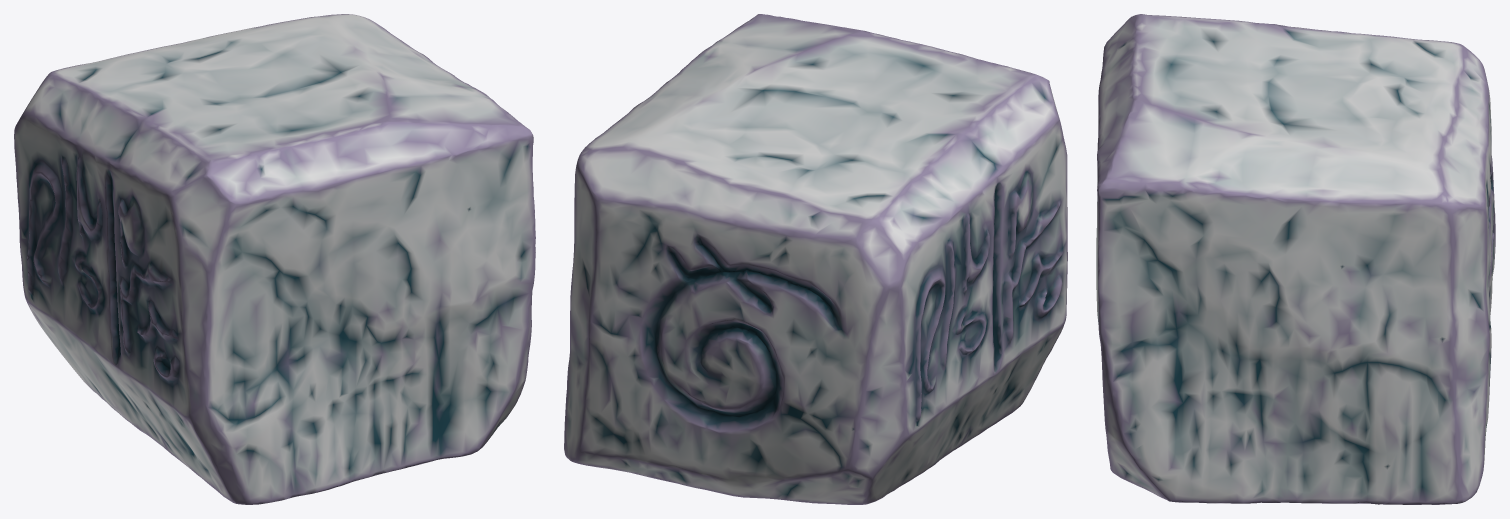
The model's file is SM_crate.fbx.
3 renders of one model, left to right at view 1: azimuth 30°, elevation 25°; view 2: azimuth 150°, elevation 25°; view 3: azimuth 270°, elevation 25°, orthographic.
Visible parts, largest first — view 1: PM3D_Cube3D1; view 2: PM3D_Cube3D1; view 3: PM3D_Cube3D1.
Part boxes in pixels (<box>): PM3D_Cube3D1: <box>14,14,535,504</box>; PM3D_Cube3D1: <box>564,14,1067,504</box>; PM3D_Cube3D1: <box>1096,14,1495,504</box>.
Bounding box in the file's own units: 103 × 95.26 × 101.
